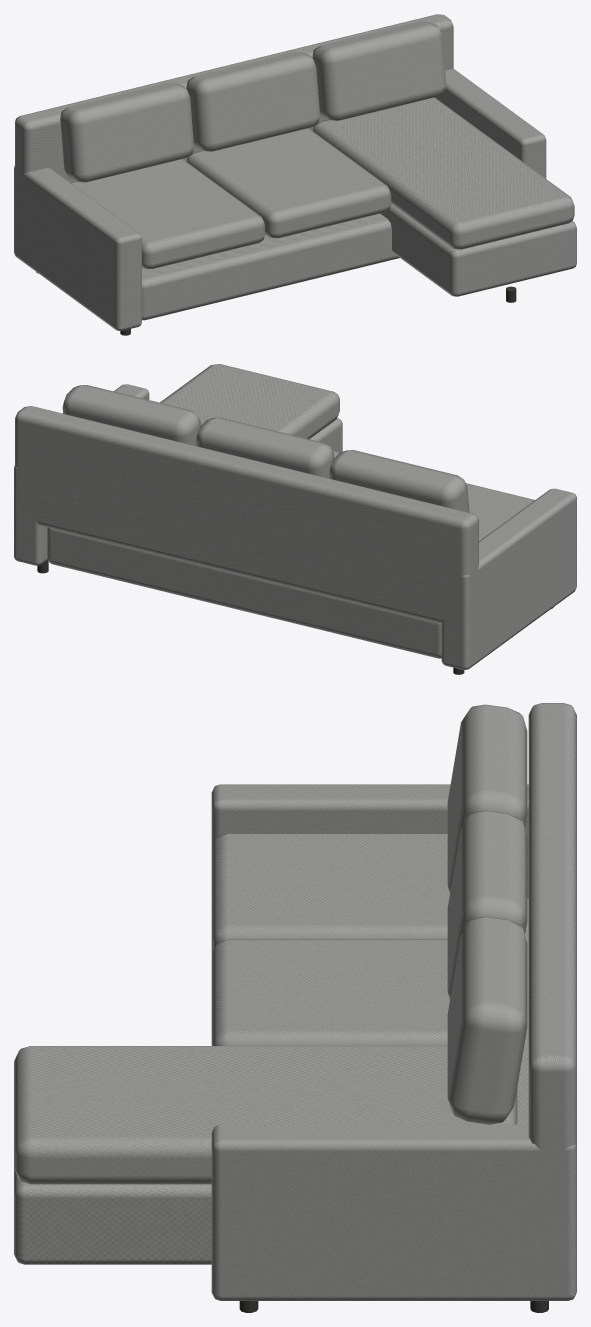
File: friheten-mobile.glb
3 views of the same model, one above another, from view 1: azimuth 30°, elevation 25°; view 2: azimuth 150°, elevation 25°; view 3: azimuth 270°, elevation 25° (orthographic). The views are drawn at different scales.
Parts seen in each view (by area): view 1: FRIHETEN Corner sleeper sofa; view 2: FRIHETEN Corner sleeper sofa; view 3: FRIHETEN Corner sleeper sofa.
Boxes of the visible parts, x1,y1,x2,y2 form: FRIHETEN Corner sleeper sofa: [14, 14, 576, 335]; FRIHETEN Corner sleeper sofa: [14, 364, 576, 674]; FRIHETEN Corner sleeper sofa: [14, 703, 576, 1312].
Size of the model in its own units: 2.3 by 0.86 by 1.51.
Materials: 2 (2 with a texture image).
